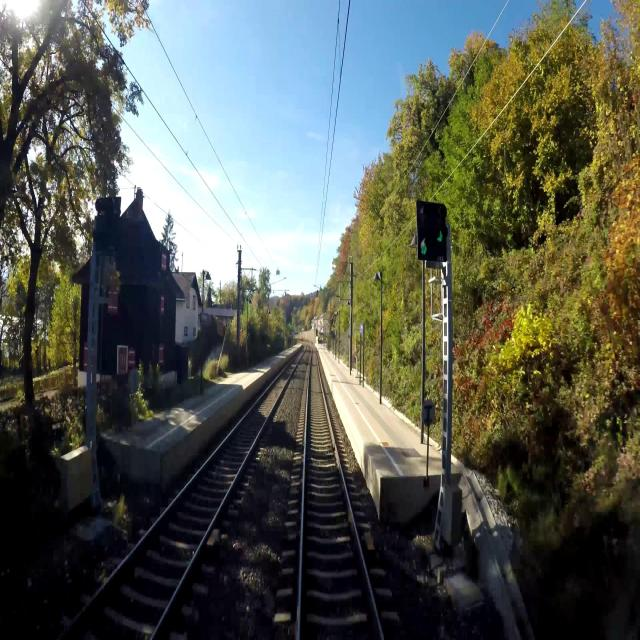rail-track: (63, 356, 298, 639), (300, 350, 380, 639)
